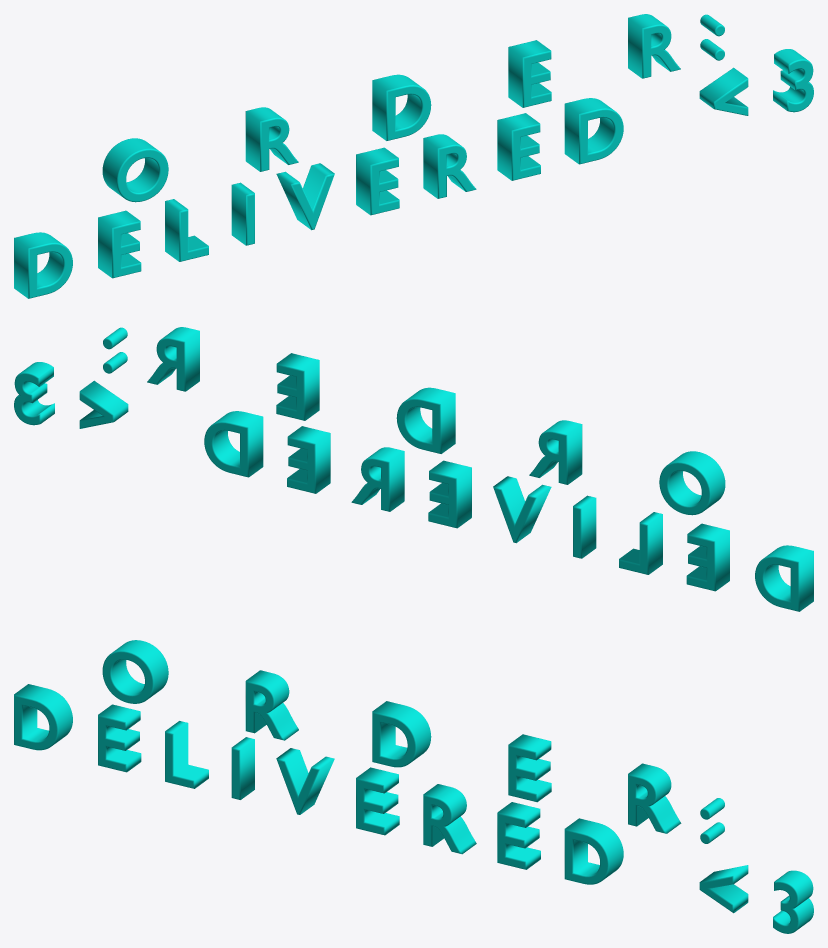
The model's file is orderDelivered.fbx.
The picture shows the model from 3 angles, top to bottom: view 1: azimuth 30°, elevation 25°; view 2: azimuth 150°, elevation 25°; view 3: azimuth 330°, elevation 25°; orthographic projection.
Parts seen in each view (by area): view 1: Text; view 2: Text; view 3: Text.
Boxes of the visible parts, left/top/right/bottom form: Text: left=14, top=14, right=813, bottom=298; Text: left=14, top=327, right=813, bottom=611; Text: left=14, top=640, right=813, bottom=933.
Bounding box in the file's own units: 903 × 134 × 30.72.
